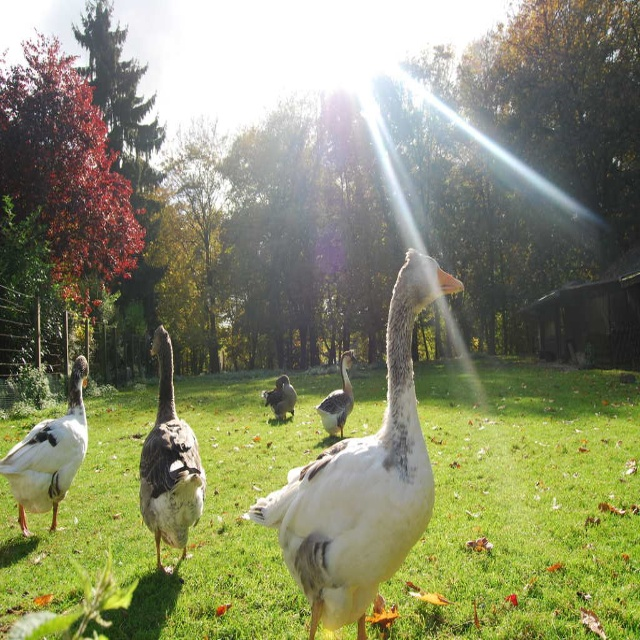Goose: (240, 246, 466, 639), (136, 319, 202, 579), (0, 355, 88, 534), (319, 345, 357, 440), (263, 370, 297, 422)
